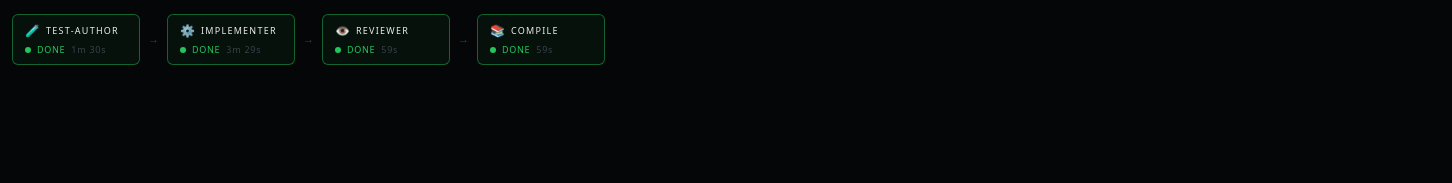
Test: StoryStagePipeline — audit tabs (B2) › missing stageSummaries → panel says the run predates stage capture
Click the text "Test-Author". click: coordinates (82, 31)
box: [46,24,119,38]
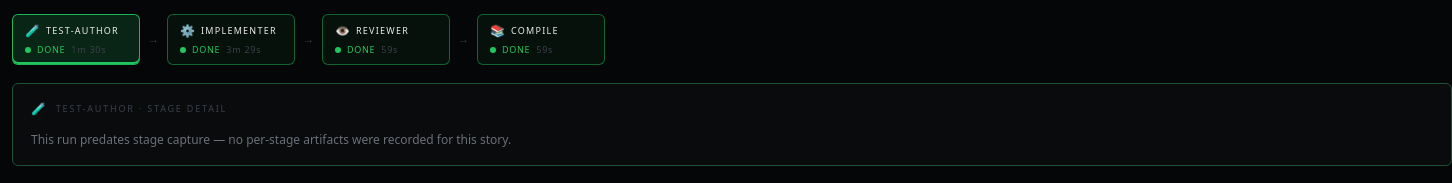
Now the element with test id "stage-panel-test-author" shows "predates stage capture", box [31,130,511,148]
